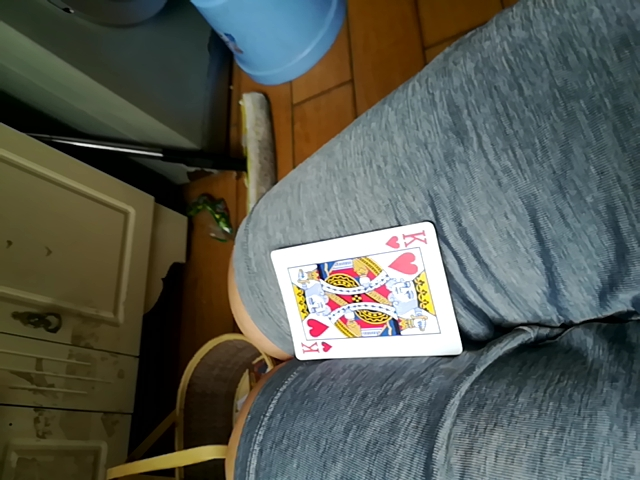hx k: (271, 223, 456, 361)
